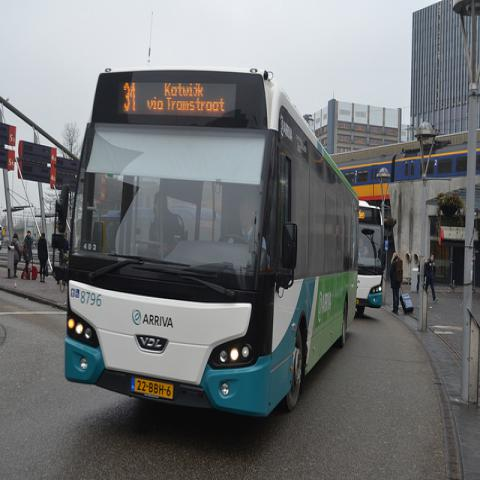bus: (64, 71, 363, 420), (356, 200, 388, 316)
